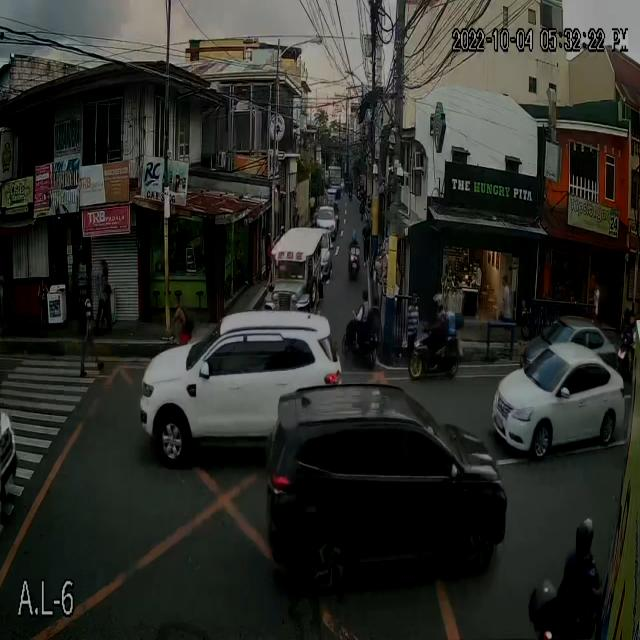Full-Faced: (573, 512, 597, 551), (622, 312, 635, 335), (349, 227, 360, 244)
Half-Faced: (431, 288, 446, 313)
Not-Wearing-Helmet: (361, 287, 374, 313)
